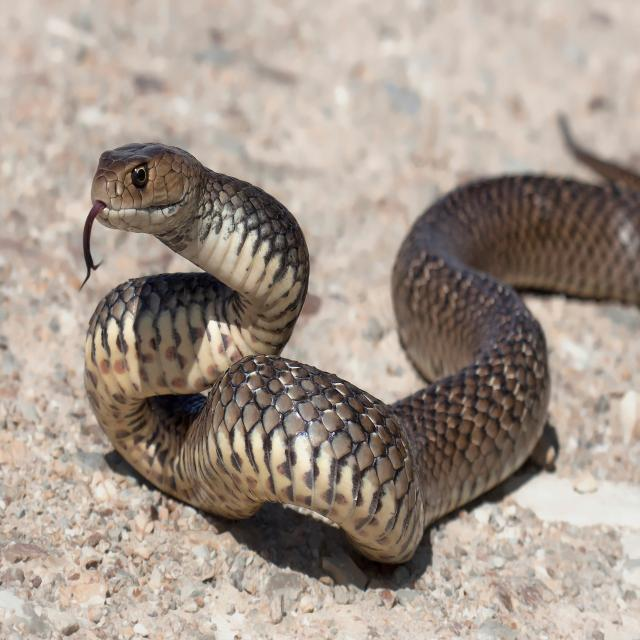snake: (83, 116, 640, 562)
